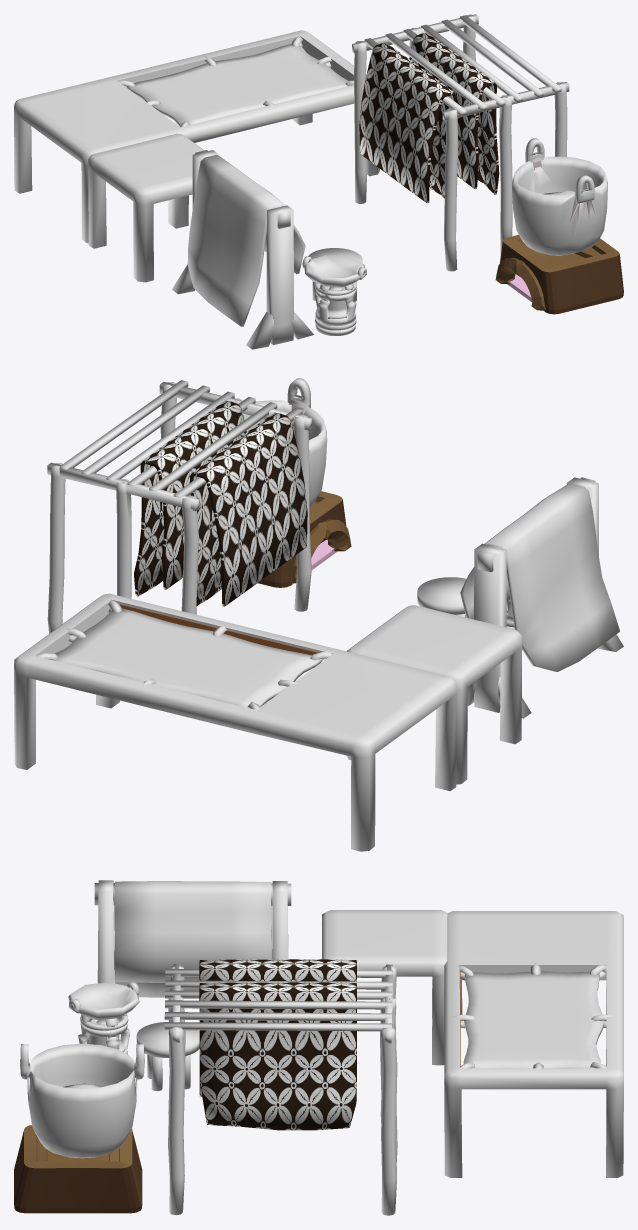
Rendered from Workspace lv3.fbx.
3 renders of one model, top to bottom at view 1: azimuth 30°, elevation 25°; view 2: azimuth 150°, elevation 25°; view 3: azimuth 270°, elevation 25°, orthographic. The views are drawn at different scales.
Visible parts, largest first — view 1: Cube.001, kain batik, Plane.006, Plane.001, Cube, Sphere, Cube.006, tungku, Plane.002, Cube.002, Cube.007, Cylinder.001 (+3 smaller); view 2: Cube.001, kain batik, Plane.006, Plane.001, Cube, Cube.006, Plane.002, Cube.007, Cube.002, tungku, Sphere, kursi kecil (+1 smaller); view 3: Cube.001, Plane.002, kain batik, Plane.001, Sphere, Cube, tungku, Cube.007, Cube.006, Plane.006, Cube.002, Sphere.001 (+3 smaller).
Part boxes in pixels (x1,y1,x2,y2): Cube.001: [14, 30, 379, 243]; kain batik: [187, 155, 305, 326]; Plane.006: [359, 43, 456, 203]; Plane.001: [127, 44, 347, 126]; Cube: [88, 133, 204, 282]; Sphere: [512, 138, 607, 255]; Cube.006: [352, 14, 569, 271]; tungku: [495, 234, 623, 314]; Plane.002: [409, 33, 499, 194]; Cube.002: [172, 150, 314, 349]; Cube.007: [364, 15, 561, 115]; Cylinder.001: [315, 282, 356, 335]; Cube.001: [14, 593, 456, 851]; kain batik: [460, 483, 619, 671]; Plane.006: [189, 412, 307, 606]; Plane.001: [51, 608, 322, 708]; Cube: [346, 605, 522, 784]; Cube.006: [47, 381, 311, 633]; Plane.002: [134, 400, 246, 596]; Cube.007: [60, 380, 302, 497]; Cube.002: [467, 477, 623, 718]; tungku: [257, 491, 351, 587]; Sphere: [243, 378, 327, 507]; kursi kecil: [417, 577, 466, 617]; Cube.001: [444, 911, 623, 1177]; Plane.002: [199, 982, 356, 1130]; kain batik: [114, 881, 271, 997]; Plane.001: [463, 971, 604, 1068]; Sphere: [20, 1043, 144, 1158]; Cube: [321, 910, 447, 1065]; tungku: [14, 1125, 142, 1213]; Cube.007: [164, 968, 392, 1031]; Cube.006: [168, 964, 397, 1215]; Plane.006: [199, 959, 356, 981]; Cube.002: [97, 880, 288, 983]; Sphere.001: [68, 982, 139, 1020].
Size of the model in its own units: 877 by 389 by 1097.
10 materials, 5 textured.
